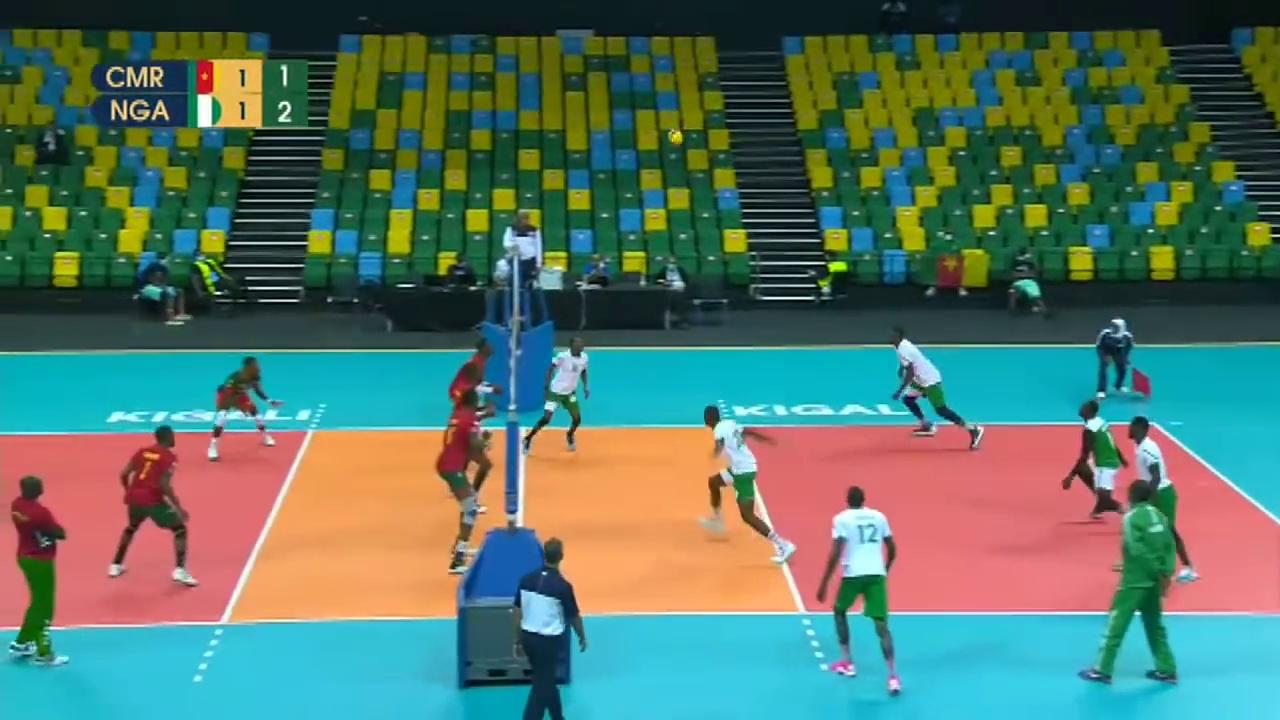player: (822, 488, 909, 693), (104, 426, 202, 591), (698, 402, 796, 564), (885, 327, 986, 450), (1064, 398, 1136, 524), (439, 389, 485, 571), (450, 339, 500, 493), (204, 356, 279, 458), (524, 340, 591, 453), (450, 365, 491, 518)
refree: (512, 533, 593, 720), (1125, 416, 1199, 581), (505, 209, 546, 316), (1093, 314, 1144, 399)
